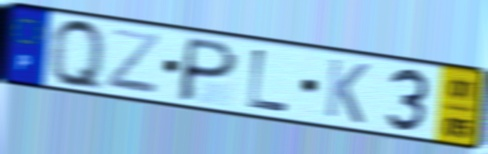3: (383, 67, 432, 134)
K: (322, 55, 372, 127)
L: (245, 46, 293, 115)
P: (174, 35, 242, 105)
Q: (48, 15, 106, 96)
Z: (104, 25, 163, 98)
